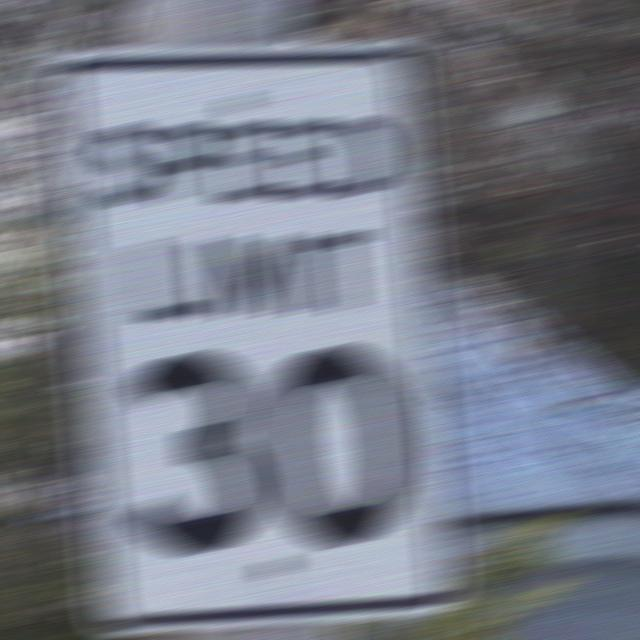speedLimit30: (79, 67, 430, 599)
